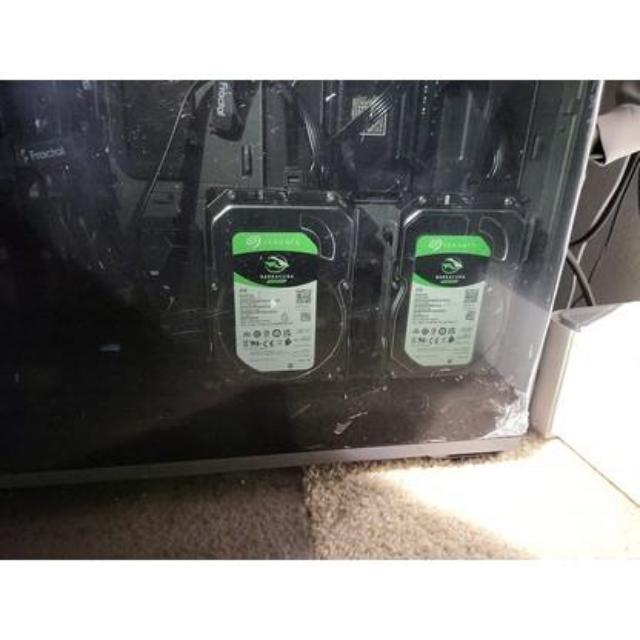DISK: (208, 192, 356, 383), (388, 204, 512, 376)
